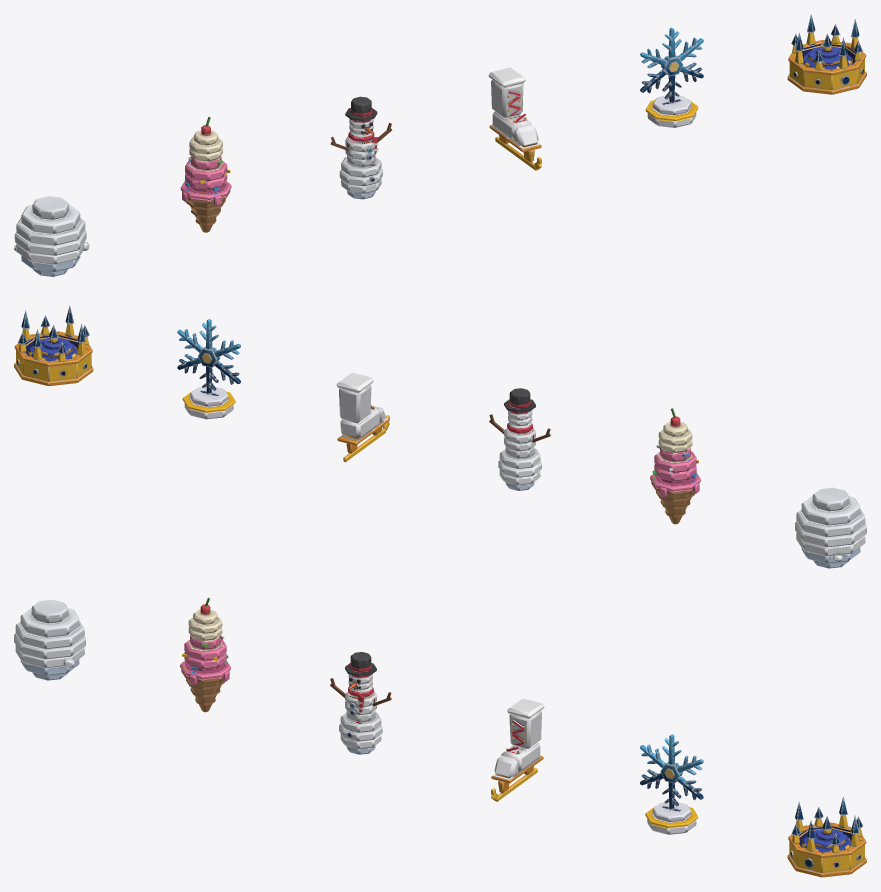
The model's file is Objets_Glace_Rig.fbx.
The picture shows the model from 3 angles, top to bottom: view 1: azimuth 30°, elevation 25°; view 2: azimuth 150°, elevation 25°; view 3: azimuth 330°, elevation 25°; orthographic projection.
Parts seen in each view (by area): view 1: BouleDeNeige, Couronne, Cornet, Bonhomme, Flocon, Patin; view 2: BouleDeNeige, Couronne, Cornet, Bonhomme, Flocon, Patin; view 3: BouleDeNeige, Couronne, Cornet, Bonhomme, Flocon, Patin.
Boxes of the visible parts, box(x1,y1,x2,y2) form: BouleDeNeige: box(14, 196, 89, 276); Couronne: box(787, 14, 866, 94); Cornet: box(180, 117, 231, 232); Bonhomme: box(330, 96, 392, 199); Flocon: box(640, 27, 703, 127); Patin: box(488, 67, 541, 170); BouleDeNeige: box(795, 487, 866, 568); Couronne: box(14, 305, 93, 386); Cornet: box(650, 408, 700, 524); Bonhomme: box(489, 388, 550, 490); Flocon: box(177, 319, 240, 419); Patin: box(336, 372, 389, 462); BouleDeNeige: box(14, 599, 85, 680); Couronne: box(787, 797, 866, 877); Cornet: box(180, 597, 230, 712); Bonhomme: box(330, 652, 391, 754); Flocon: box(640, 734, 703, 834); Patin: box(491, 698, 544, 801).
Size of the model in its own units: 46.11 by 6 by 4.23.
1 material, 1 textured.
